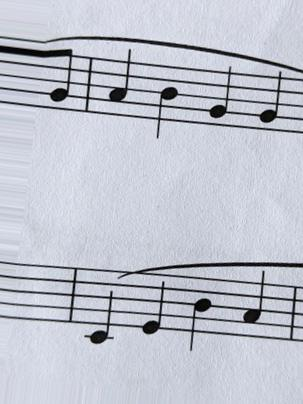note: (82, 264, 121, 350), (150, 60, 183, 145), (186, 272, 214, 355), (240, 267, 268, 346), (255, 67, 285, 138), (105, 46, 134, 119), (208, 64, 236, 133), (140, 273, 166, 343)
